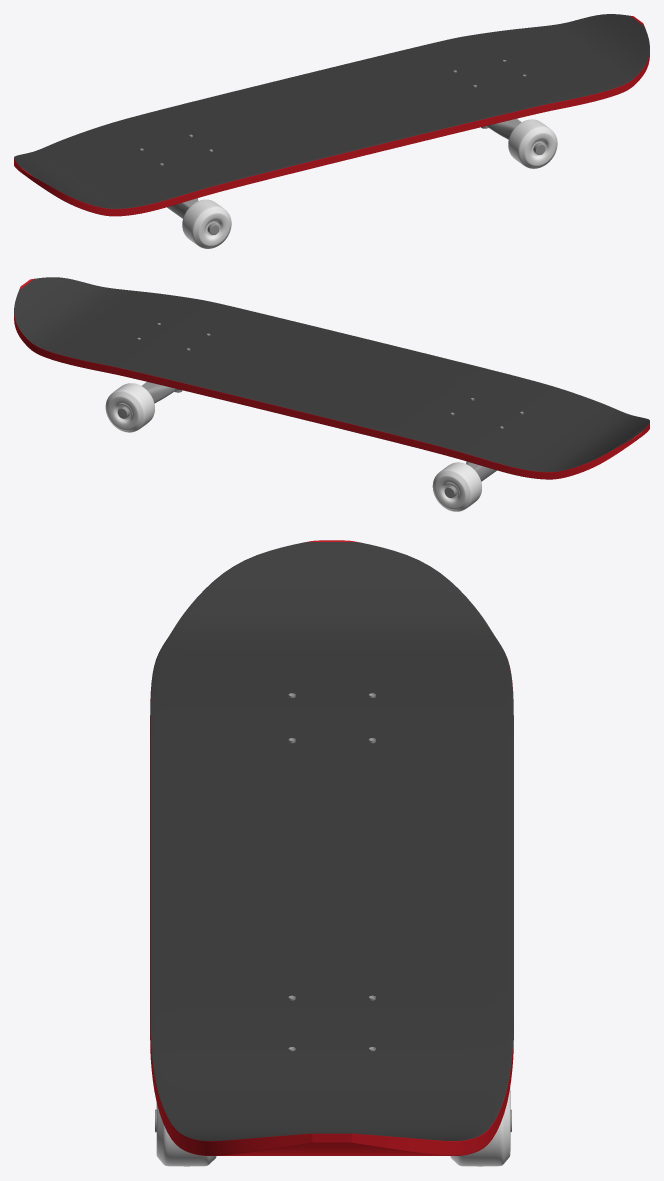
The model's file is skateboard_cycles.fbx.
The picture shows the model from 3 angles, top to bottom: view 1: azimuth 30°, elevation 25°; view 2: azimuth 150°, elevation 25°; view 3: azimuth 270°, elevation 25°; orthographic projection. The views are drawn at different scales.
Parts seen in each view (by area): view 1: board, wheel.004, wheel.002, truck.001; view 2: board, wheel.001, wheel.003, truck.001; view 3: board, wheel.001, wheel.004.
Boxes of the visible parts, x1=… form: board: x1=14, y1=14, x2=649, y2=216; wheel.004: x1=508, y1=119, x2=557, y2=168; wheel.002: x1=182, y1=199, x2=231, y2=248; truck.001: x1=481, y1=118, x2=521, y2=139; board: x1=14, y1=277, x2=649, y2=479; wheel.001: x1=105, y1=383, x2=154, y2=432; wheel.003: x1=432, y1=462, x2=481, y2=511; truck.001: x1=142, y1=382, x2=182, y2=403; board: x1=150, y1=540, x2=513, y2=1155; wheel.001: x1=450, y1=1087, x2=511, y2=1166; wheel.004: x1=155, y1=1103, x2=216, y2=1166.
Bounding box in the file's own units: 260 × 33.93 × 66.84.
